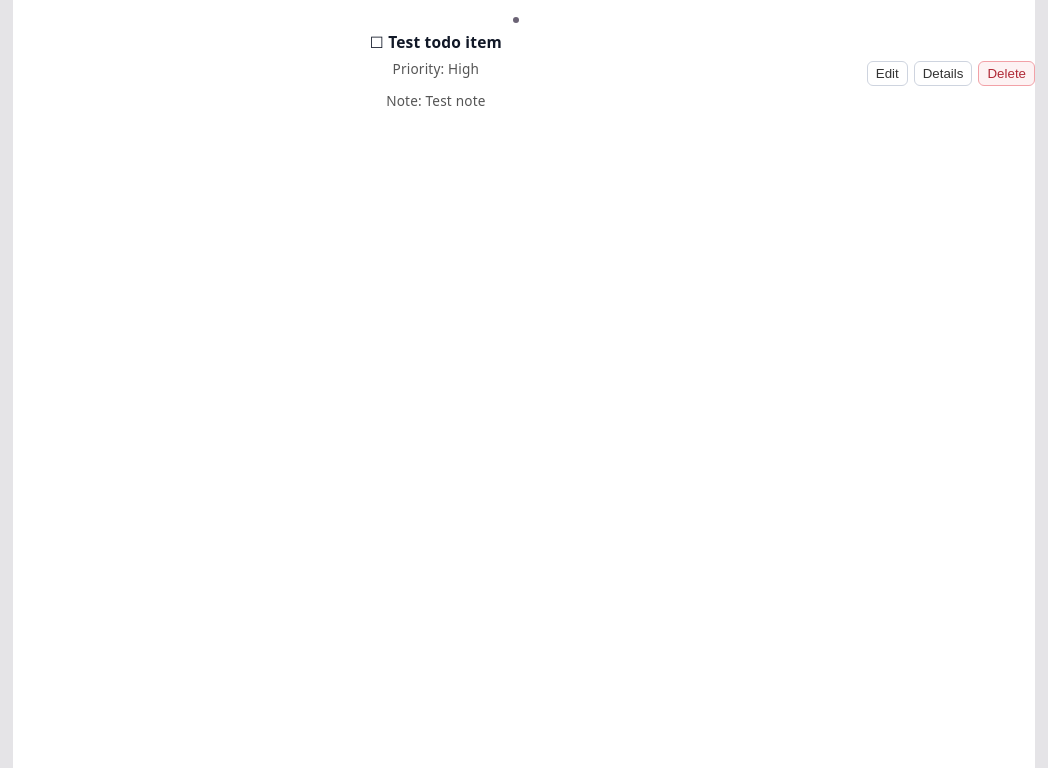
TodoItemRow › opens edit item form when Edit is clicked
Click the button "Edit" at (887, 74), box [867,61,908,86]
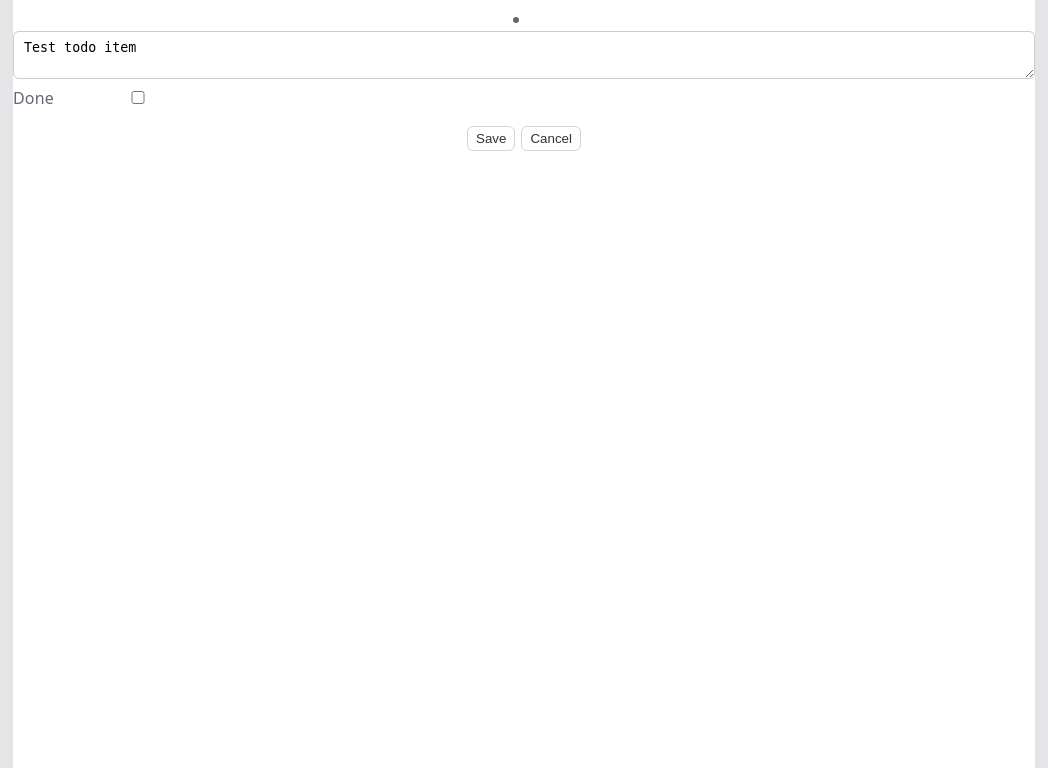
Expected: the text box with placeholder "Item title" holds "Test todo item", [13,31,1035,79]
Expected: the checkbox labelled "Done" is not checked, [58,91,218,104]
Expected: the button "Save" is shown, [467,126,515,151]
